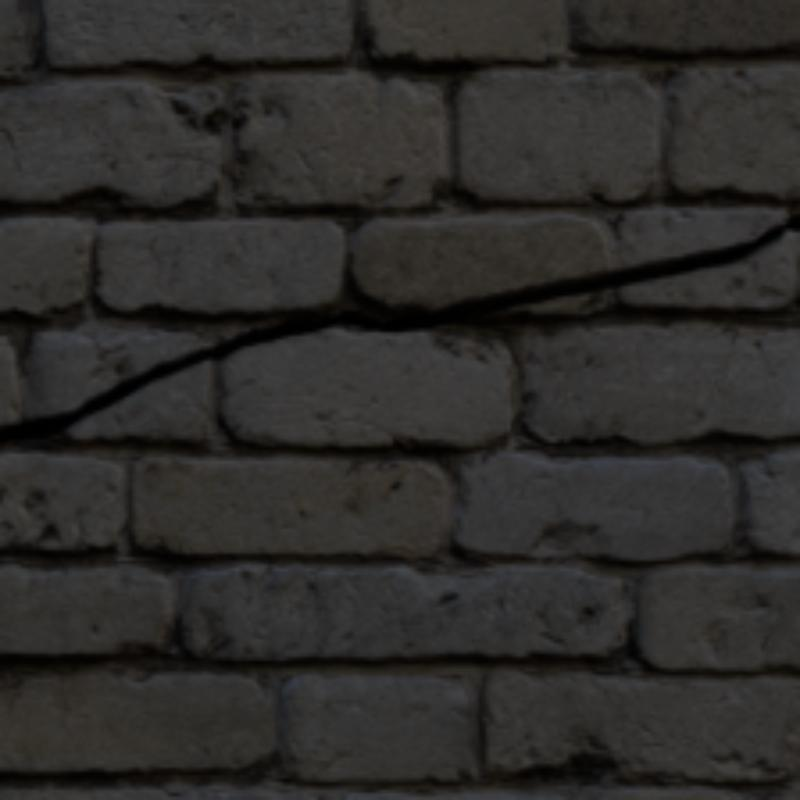pothole: (0, 214, 796, 439)
